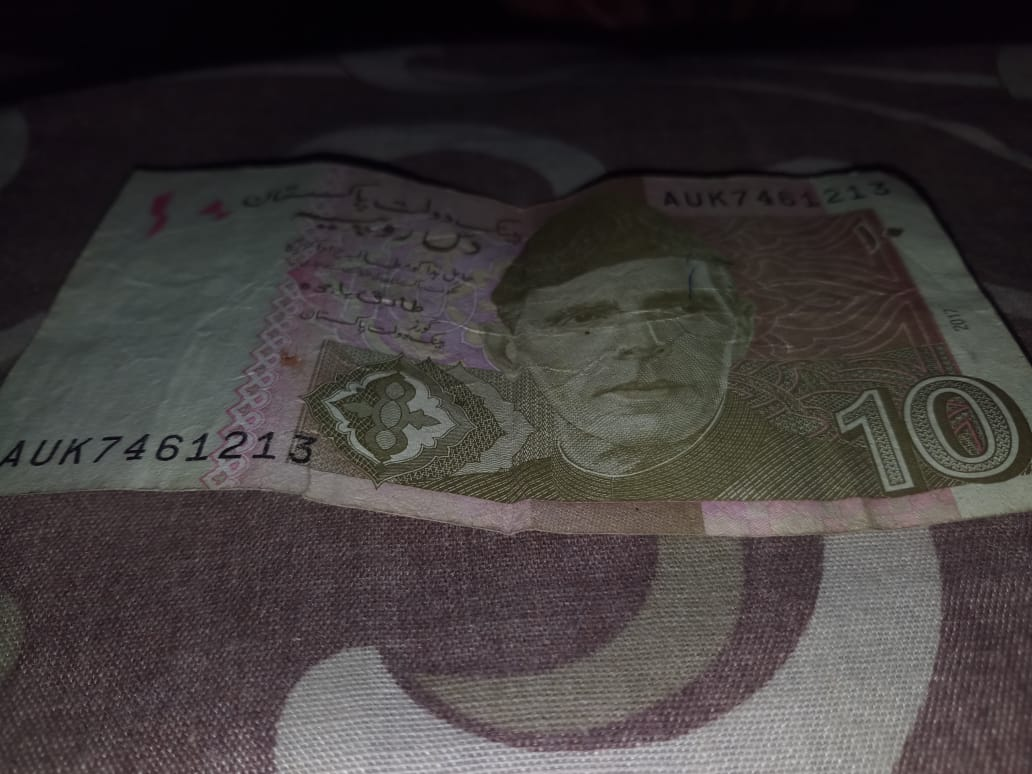10 rupee: (0, 150, 1032, 514)
